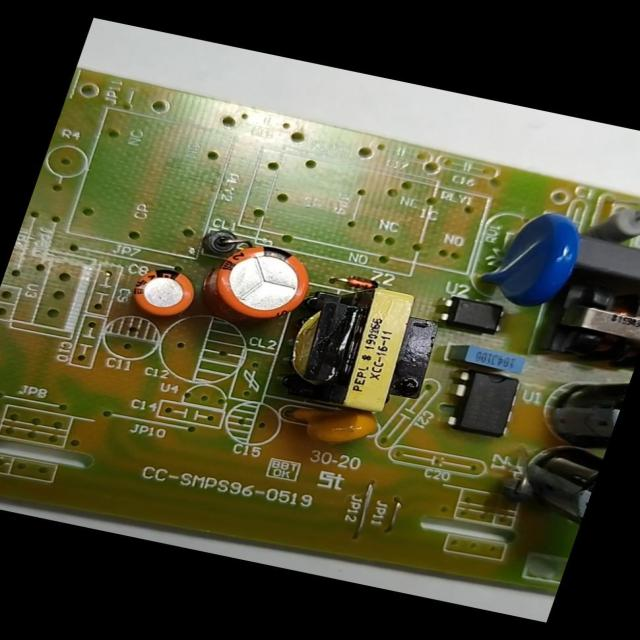Cap1: (195, 231, 327, 333)
Cap2: (122, 257, 206, 326)
Cap3: (530, 360, 631, 458)
Cap4: (502, 436, 605, 534)
MOSFET: (442, 362, 533, 442)
Mov: (466, 202, 594, 314)
Resistor: (590, 194, 640, 250)
Transformer: (267, 270, 459, 426), (543, 276, 639, 377)
